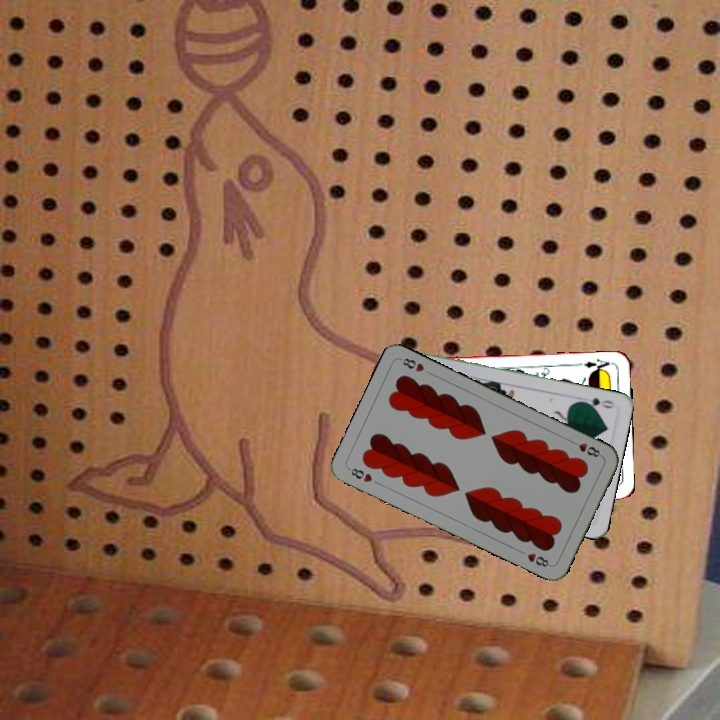EA: (575, 355, 615, 374)
GO: (576, 393, 617, 411)
H8: (567, 436, 605, 460), (344, 464, 375, 485)
